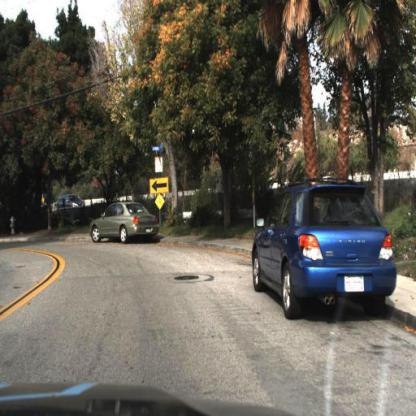car: (250, 170, 399, 320), (88, 201, 164, 246), (55, 192, 88, 213)
